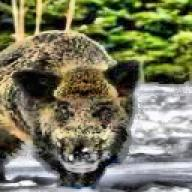boar: (0, 28, 142, 189)
